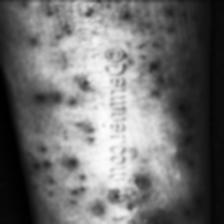Non-Cancerous Skin Condition: (30, 88, 98, 146), (106, 173, 150, 207), (132, 207, 177, 224), (78, 78, 100, 92), (146, 60, 160, 68), (120, 11, 130, 19), (150, 221, 162, 224)
